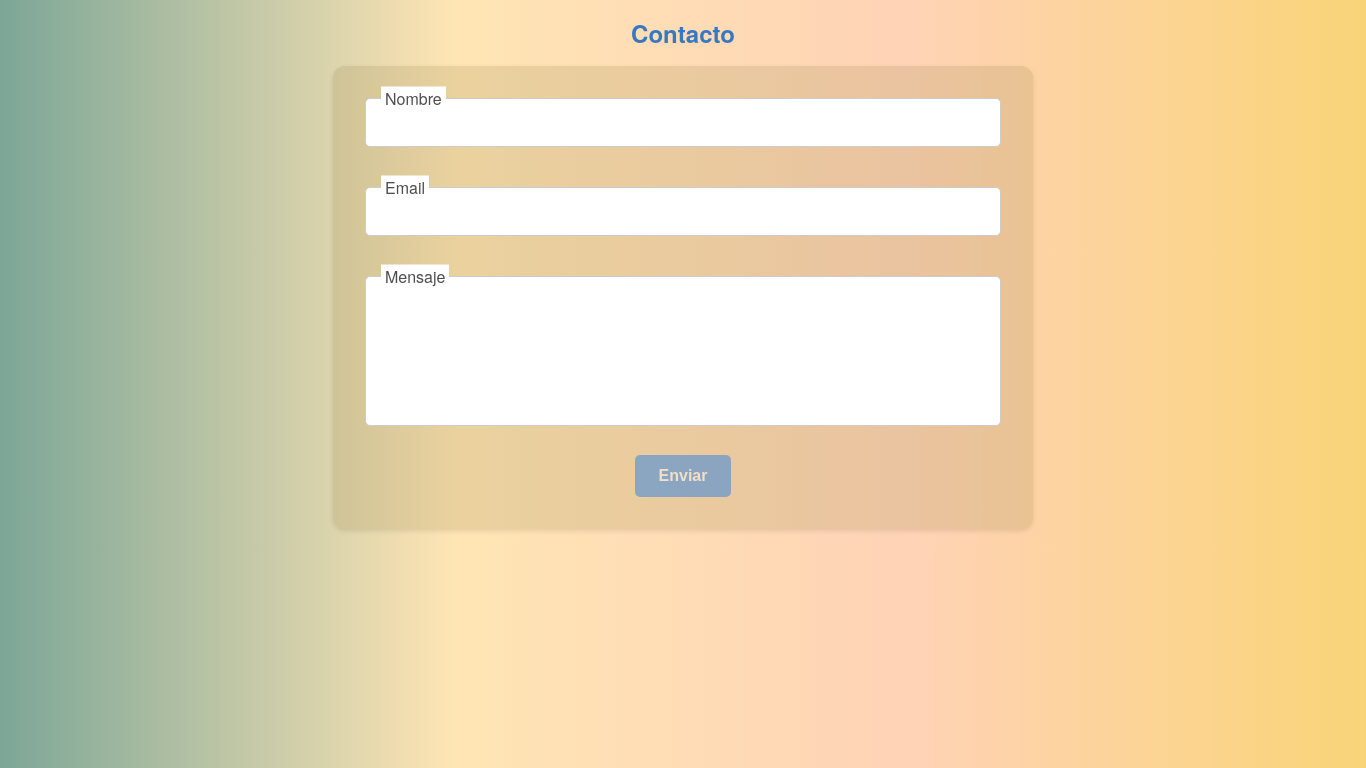
ContactForm › displays success message on successful form submission
The image size is (1366, 768).
Type "Juan" into the field labelled "Nombre" at point(683, 122), box [365,98,1001,147]
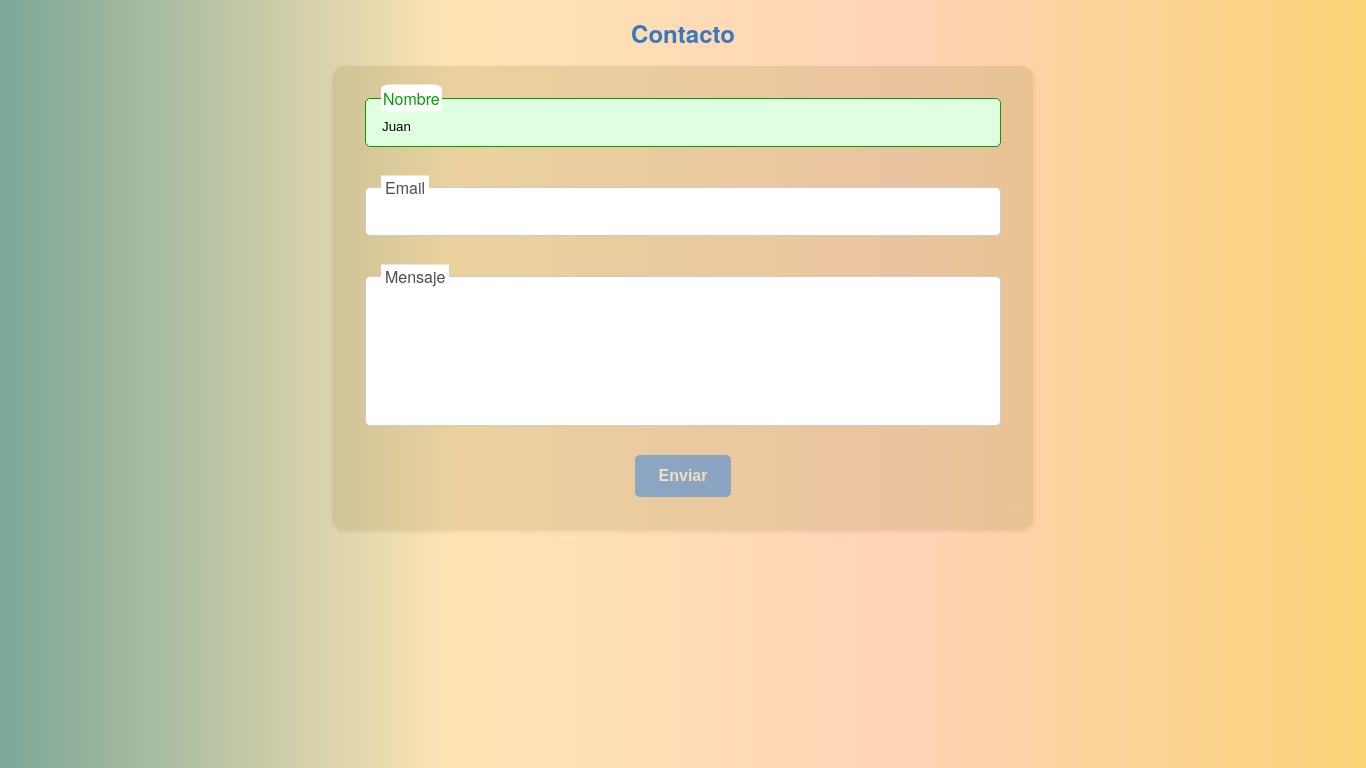
Type "juan@example.com" into the field labelled "Email" at point(683, 212), box [365,187,1001,236]
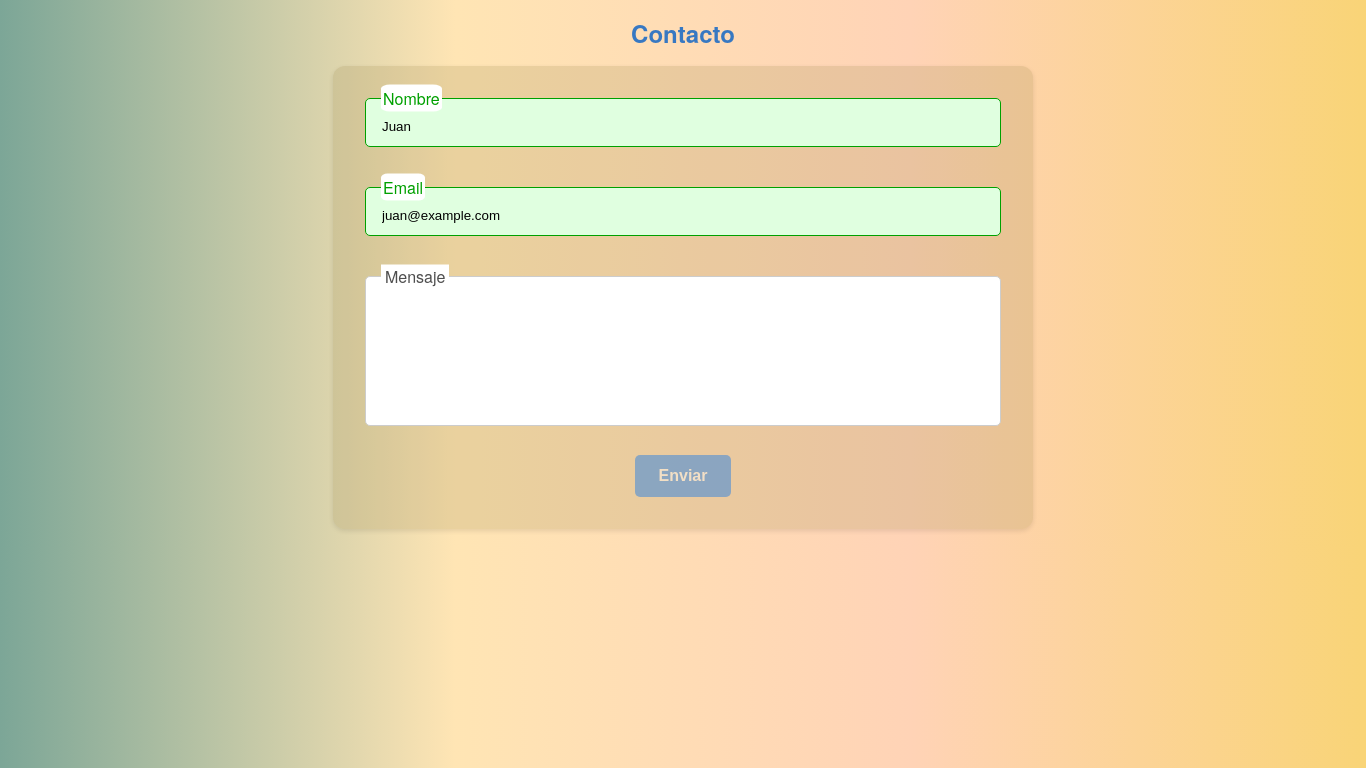
Type "Hola, este es un mensaje." into the text box labelled "Mensaje" at point(683, 351), box [365,276,1001,426]
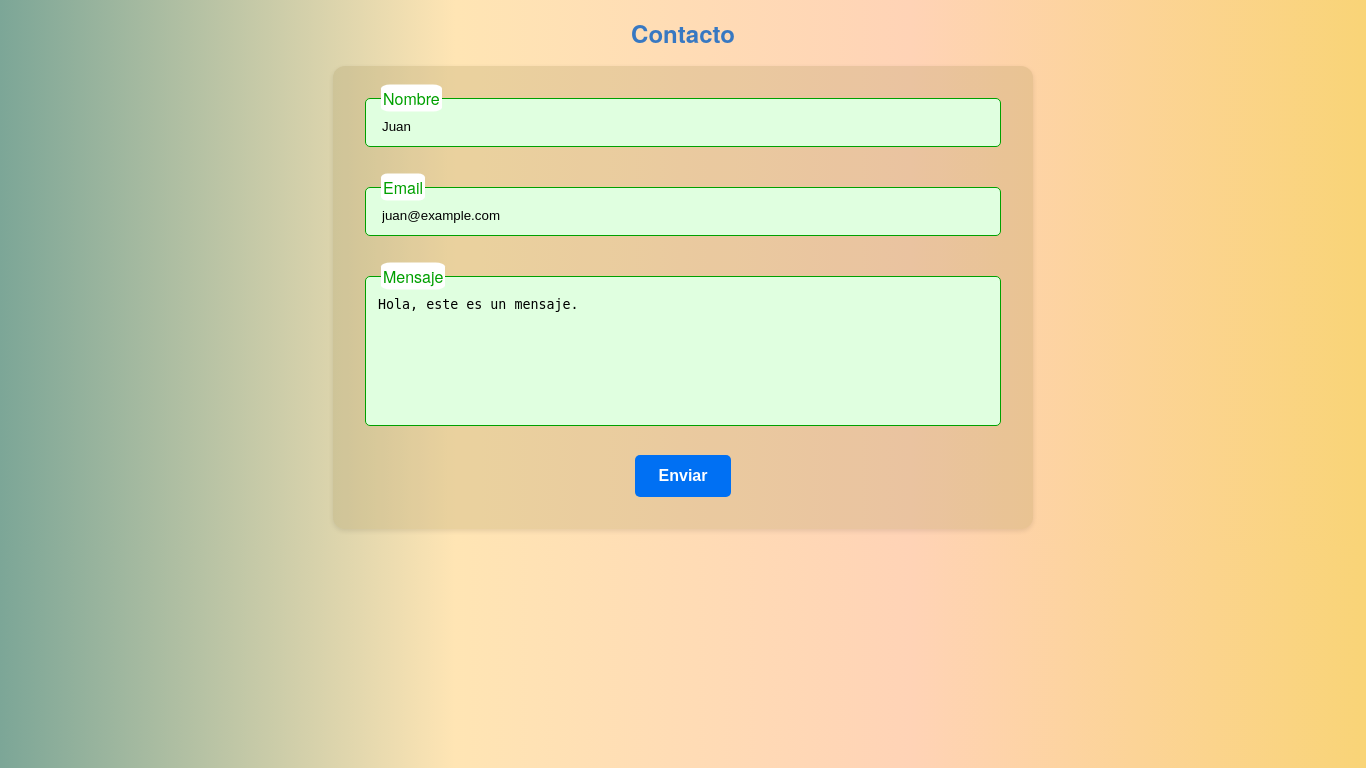
Click the button "Enviar" at point(683, 476), box [634,455,731,497]
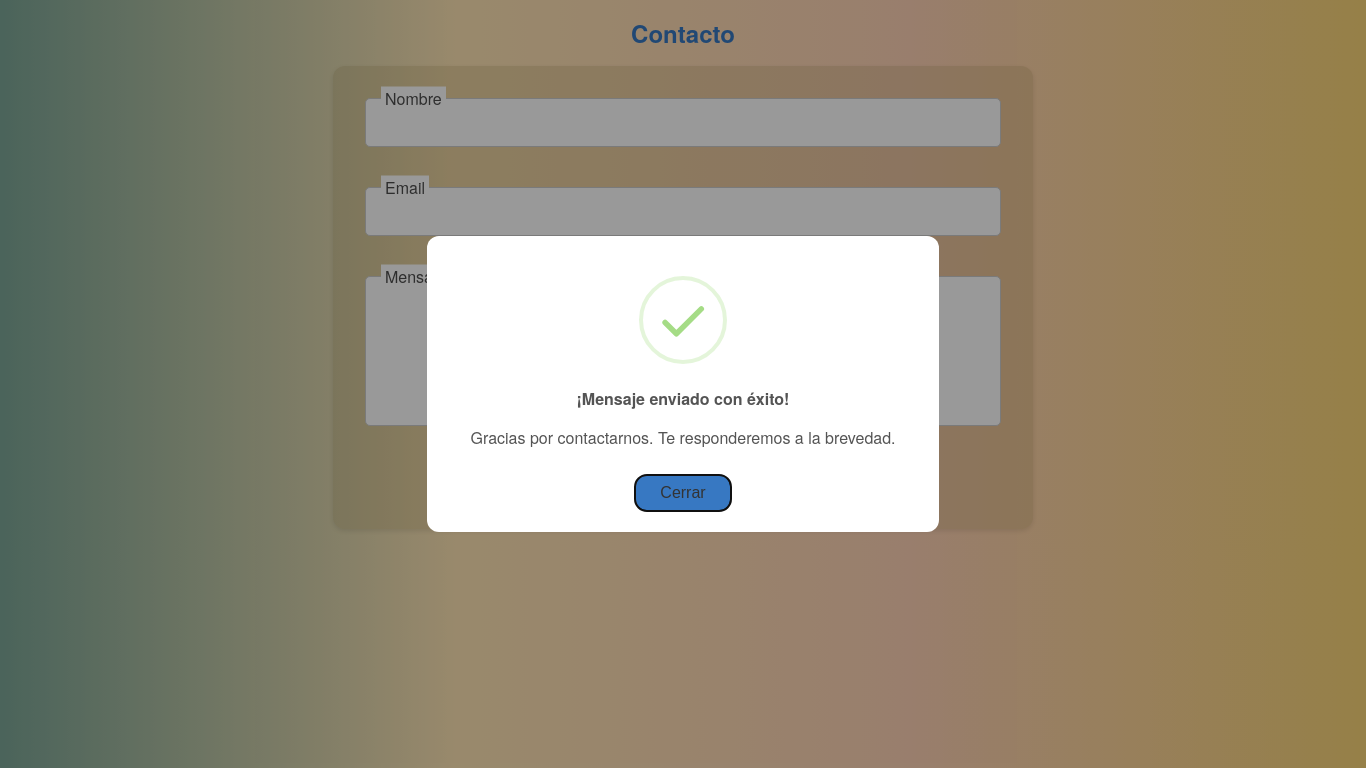
Now the dialog is shown, box [427,236,939,532]
